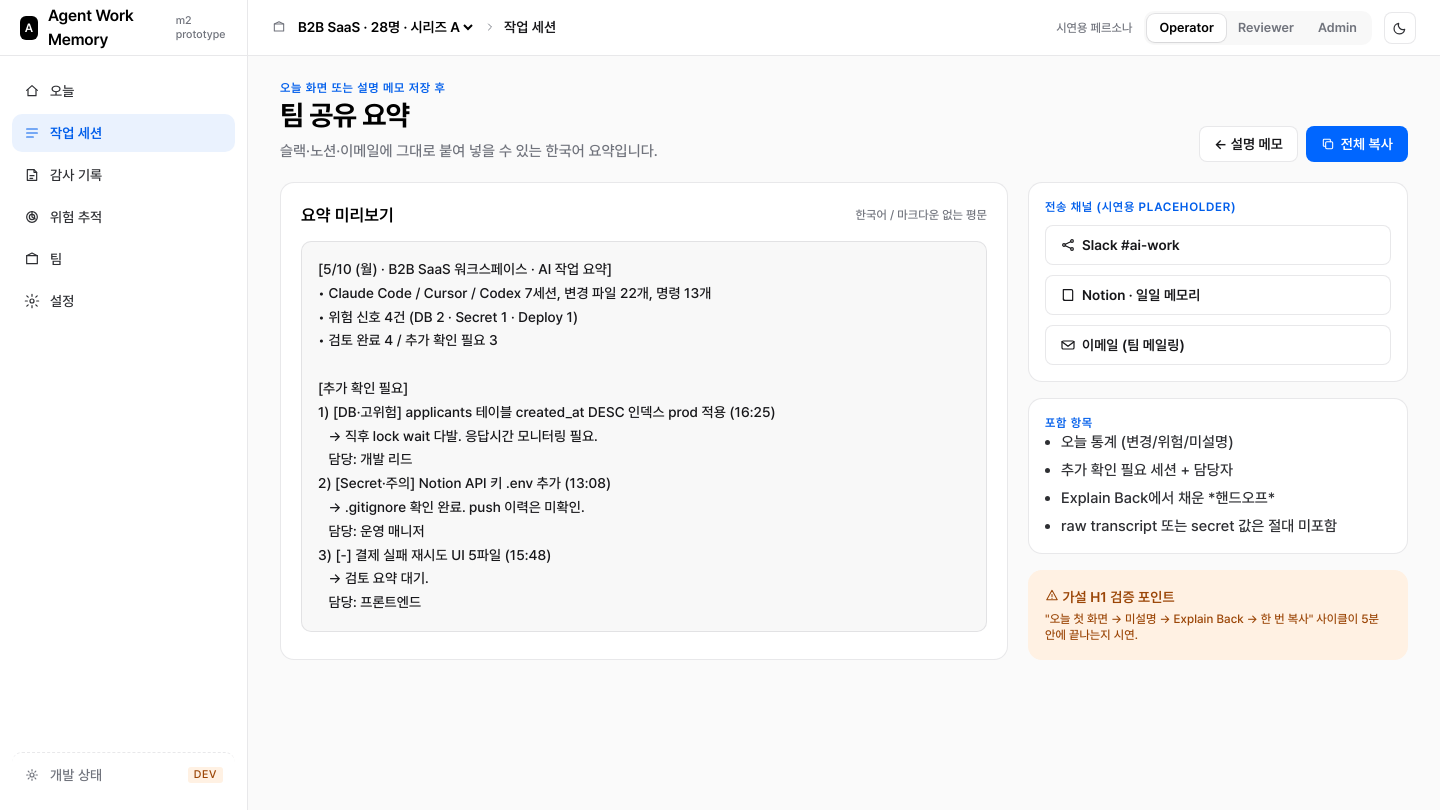
Test: AppShell + product IA › Share copy button toggles label after clipboard write
Click the button "전체 복사" at [1357, 144], box [1306, 126, 1408, 162]
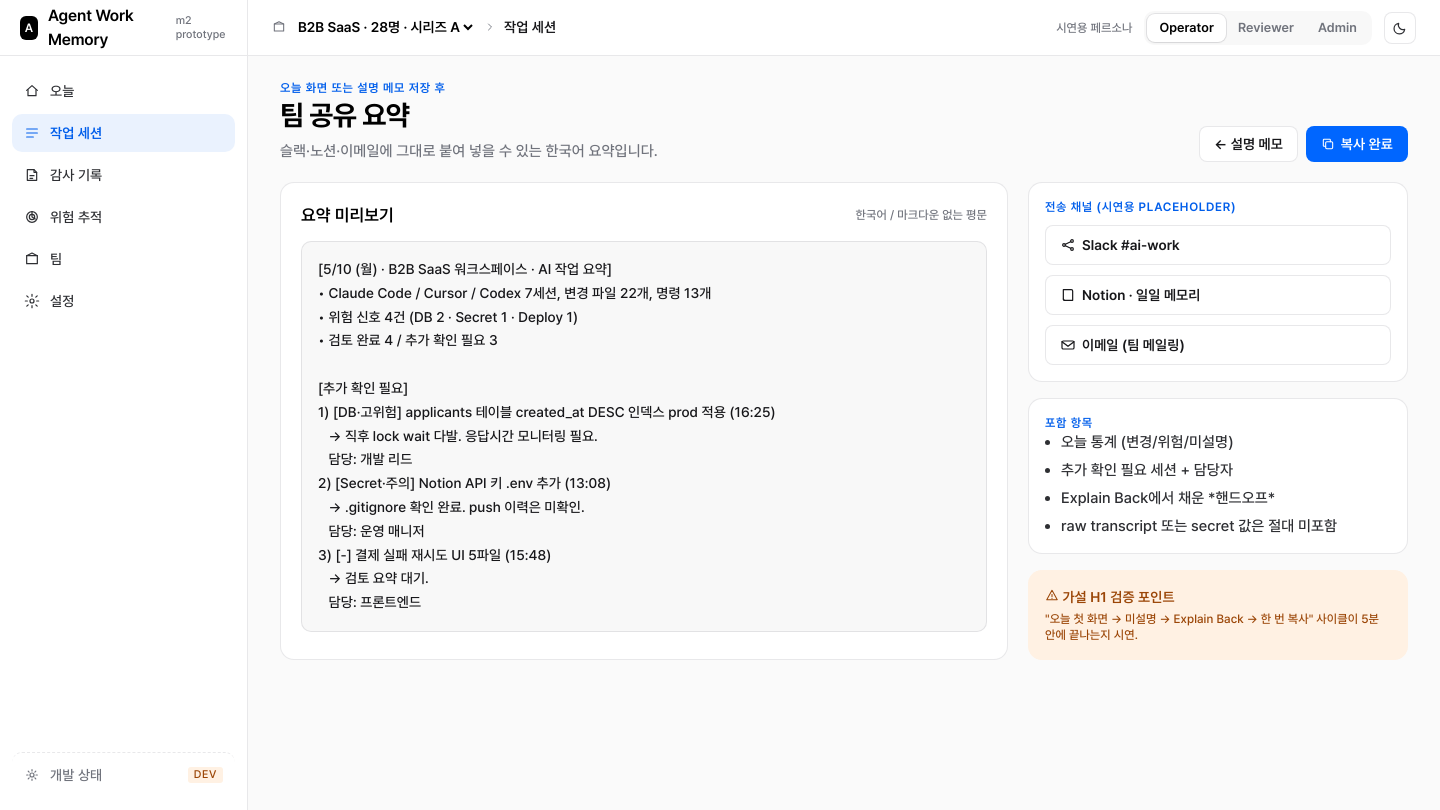
Now the button "복사 완료" is shown, box [1306, 126, 1408, 162]
